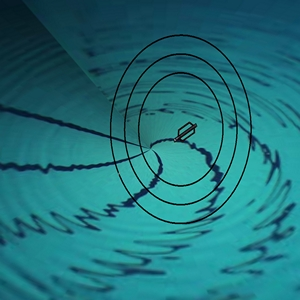circle: (101, 27, 259, 237)
submarine: (168, 110, 198, 151)
